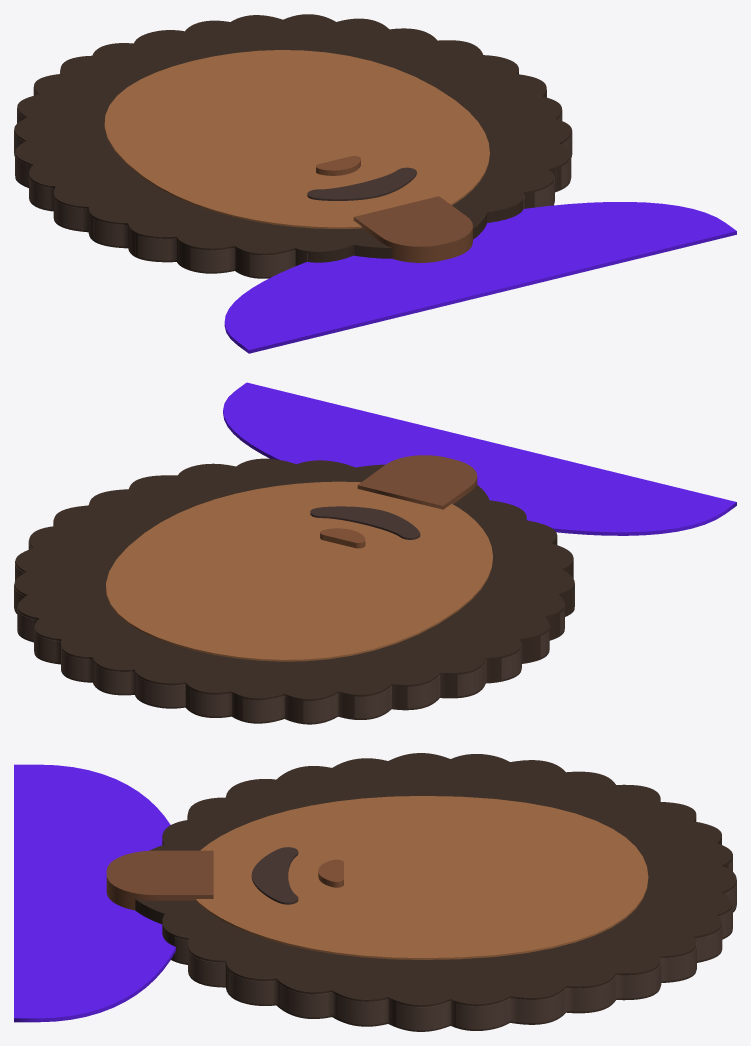
Rendered from emoji_u1f469_1f3fe_200d_1f9b1.glb.
The picture shows the model from 3 angles, top to bottom: view 1: azimuth 30°, elevation 25°; view 2: azimuth 150°, elevation 25°; view 3: azimuth 270°, elevation 25°; orthographic projection. The views are drawn at different scales.
Visible parts, largest first — view 1: emoji_u1f469_1f3fe_200d_1f9b1; view 2: emoji_u1f469_1f3fe_200d_1f9b1; view 3: emoji_u1f469_1f3fe_200d_1f9b1.
Part boxes in pixels (bbox=[...]): emoji_u1f469_1f3fe_200d_1f9b1: bbox=[14, 14, 736, 353]; emoji_u1f469_1f3fe_200d_1f9b1: bbox=[14, 382, 736, 724]; emoji_u1f469_1f3fe_200d_1f9b1: bbox=[14, 753, 736, 1031].
Size of the model in its own units: 0.0285 by 0.0022 by 0.0342.
